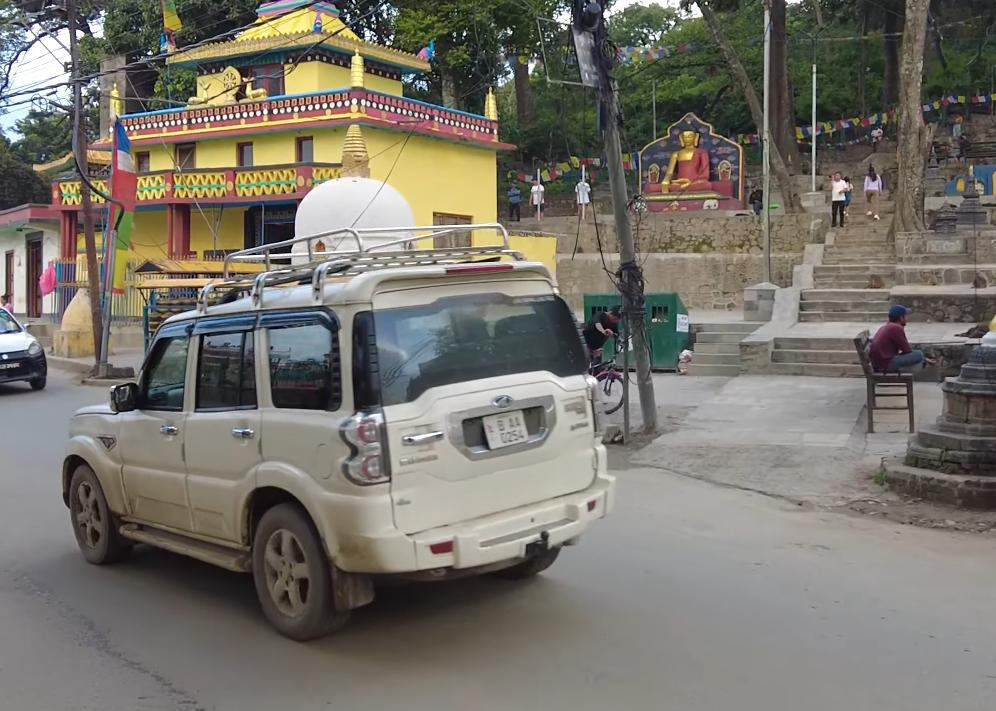SUV: (48, 221, 609, 654)
